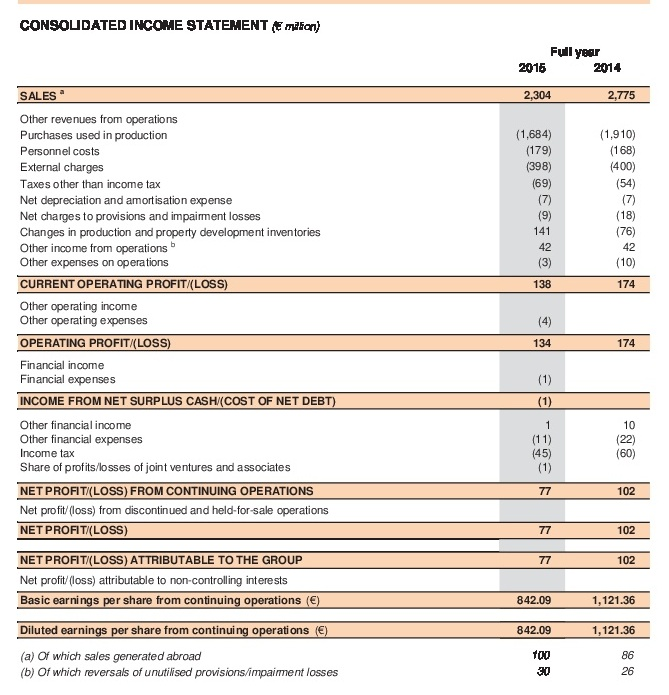table: (0, 0, 669, 695)
